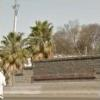Tree: (27, 11, 97, 58)
